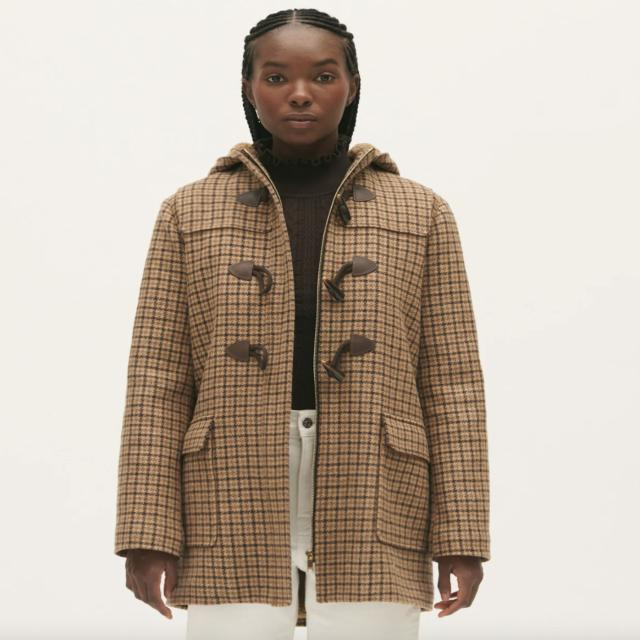coat: (114, 138, 494, 607)
sweater: (253, 141, 362, 416)
trousers: (181, 406, 427, 640)
